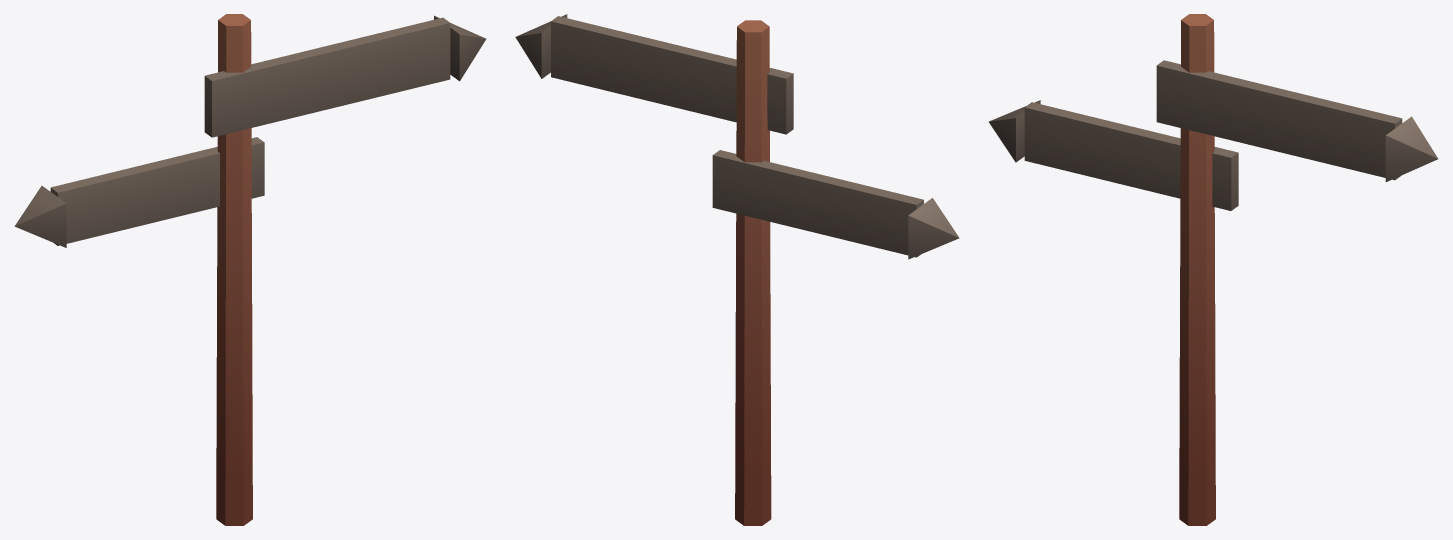
Rendered from signpost.glb.
The picture shows the model from 3 angles, left to right: view 1: azimuth 30°, elevation 25°; view 2: azimuth 150°, elevation 25°; view 3: azimuth 330°, elevation 25°; orthographic projection.
Visible parts, largest first — view 1: signpost; view 2: signpost; view 3: signpost.
Boxes of the visible parts, x1,y1,x2,y2 form: signpost: (14, 14, 486, 525); signpost: (515, 14, 959, 525); signpost: (989, 14, 1438, 525).
Bounding box in the file's own units: 2.9 × 3 × 0.3958.
1 material, 1 textured.
